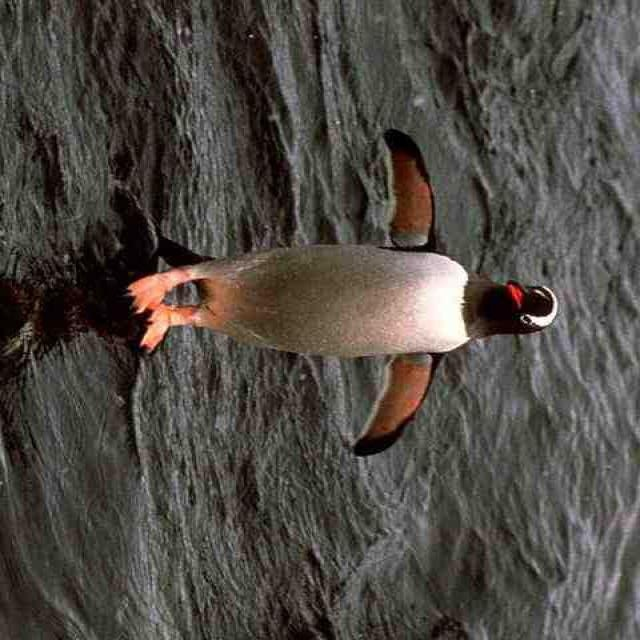penguin: (123, 129, 557, 457)
